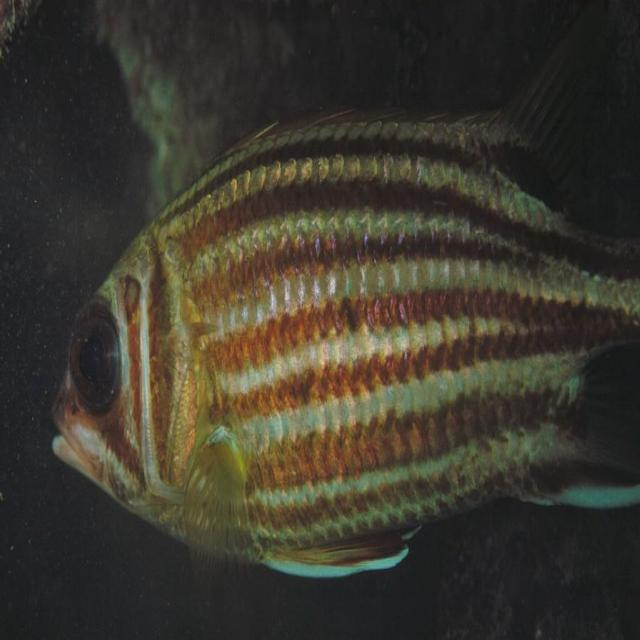Asker Baligi: (49, 101, 638, 581)
